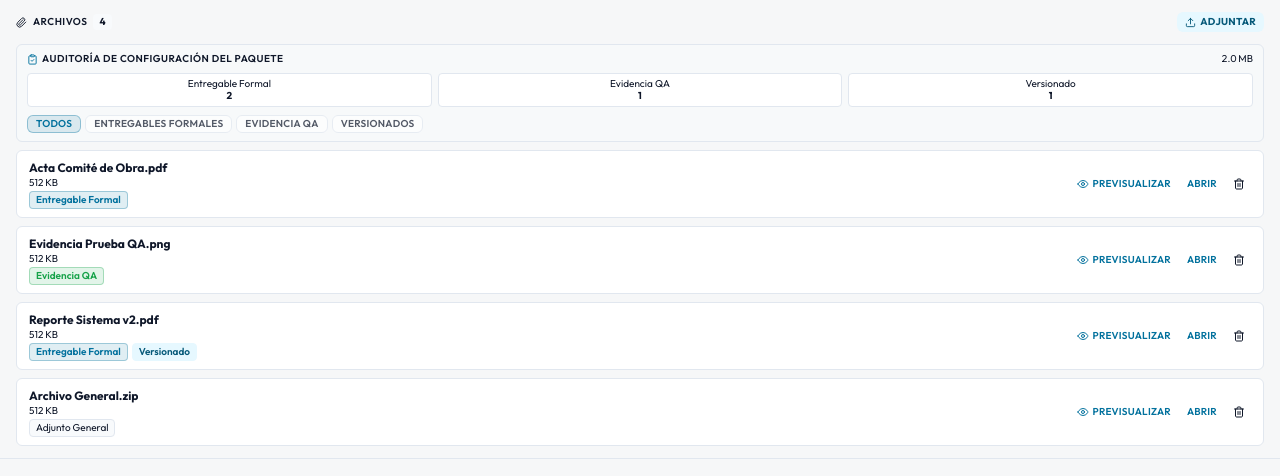
Test: TaskAttachmentSection — Control de Entregables PMI (§5.5 & §8.3) › filters the list interactively by PMI category pills
// "Entregables Formales": acta y reporte (att-1 y att-3)
Click the button "Entregables Formales".
click(159, 124)  # box [85, 115, 232, 133]
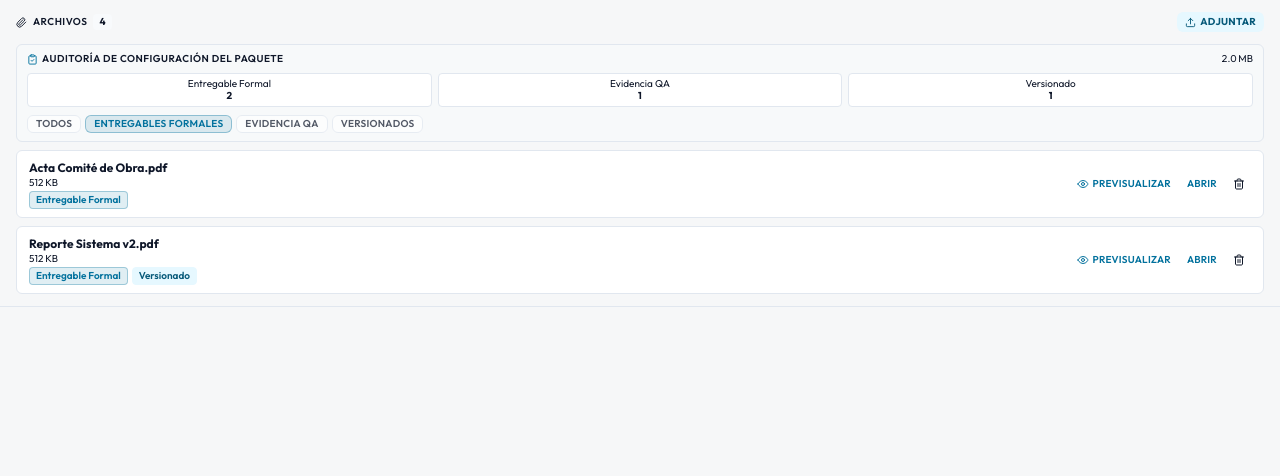
Check: the button "Acta Comité de Obra.pdf" is shown, box [29, 159, 168, 177]
Check: the button "Archivo General.zip" is gone
// "Evidencia QA": solo la imagen de evidencia
Click the button "Evidencia QA".
click(282, 124)  # box [236, 115, 328, 133]
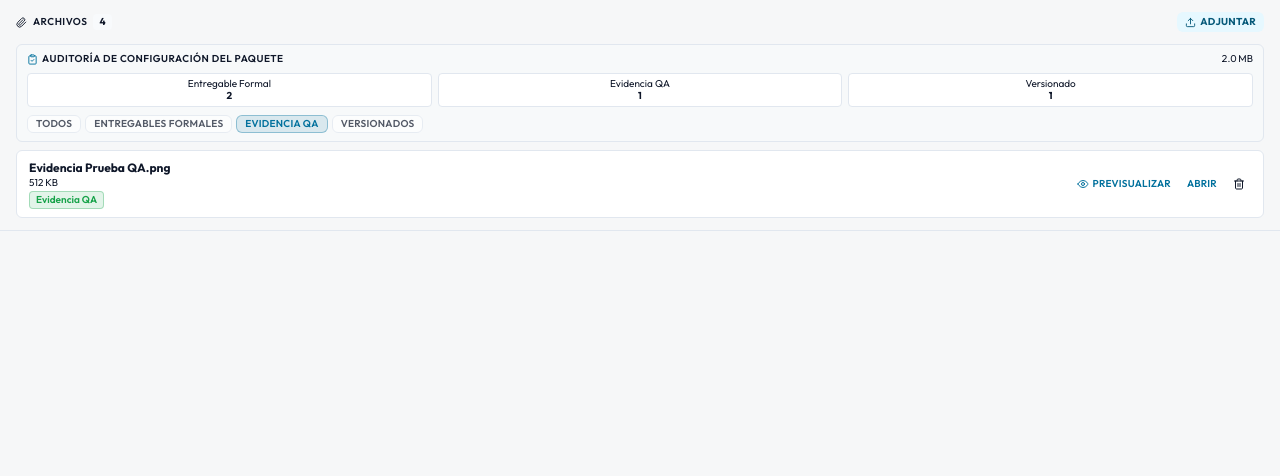
Check: the button "Evidencia Prueba QA.png" is shown, box [29, 159, 170, 177]
Check: the button "Acta Comité de Obra.pdf" is gone
Click the button "Todos".
click(54, 124)  # box [27, 115, 81, 133]
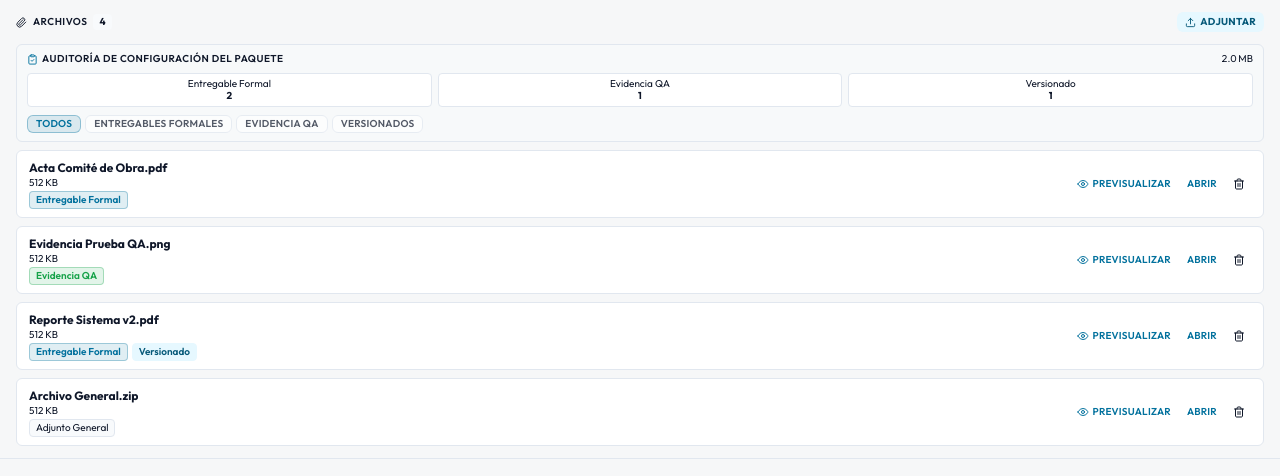
Check: the button "Evidencia Prueba QA.png" is shown, box [29, 235, 170, 253]
Check: the button "Acta Comité de Obra.pdf" is shown, box [29, 159, 168, 177]
Check: the button "Reporte Sistema v2.pdf" is shown, box [29, 311, 159, 329]
